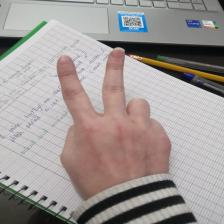two: (48, 46, 174, 196)
